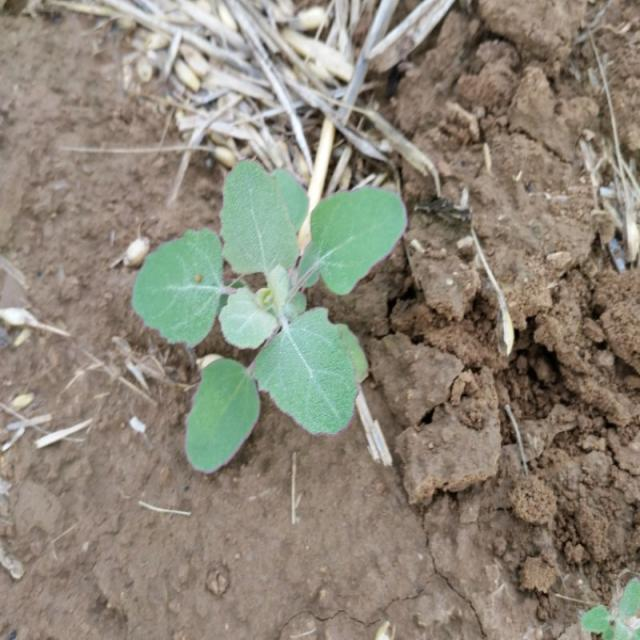goosefoots: (95, 164, 405, 478)
